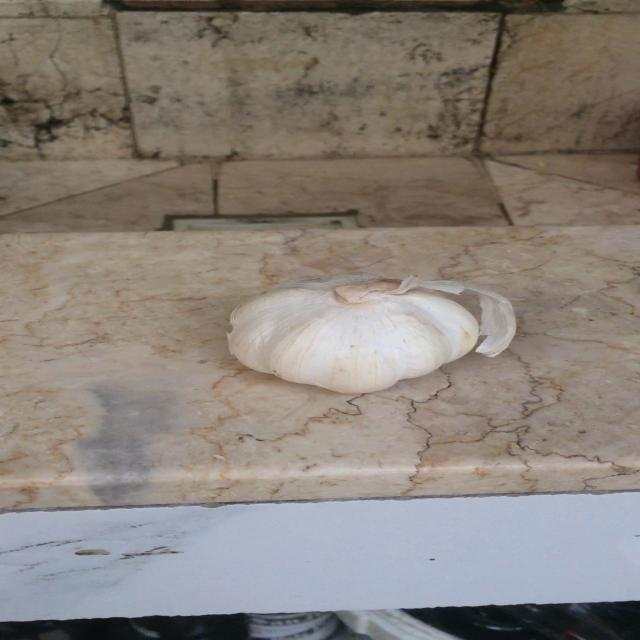garlic: (224, 274, 517, 396)
